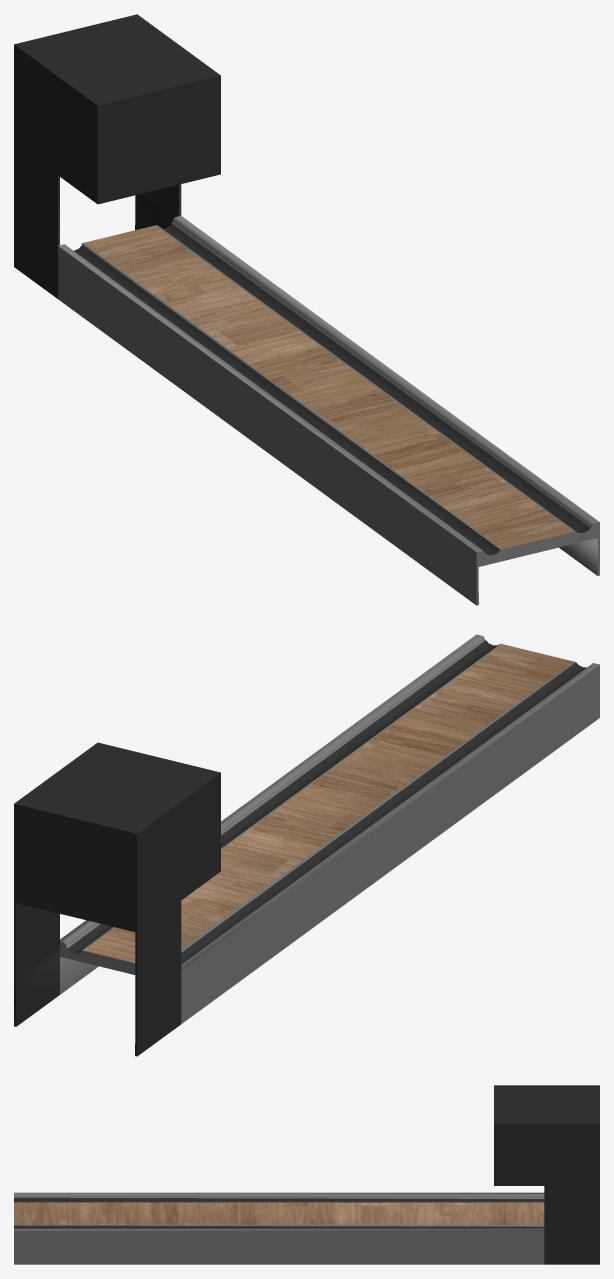
Rendered from BowlingAlley.fbx.
The picture shows the model from 3 angles, top to bottom: view 1: azimuth 30°, elevation 25°; view 2: azimuth 150°, elevation 25°; view 3: azimuth 270°, elevation 25°; orthographic projection. The views are drawn at different scales.
Parts seen in each view (by area): view 1: Plane; view 2: Plane; view 3: Plane.
Boxes of the visible parts, bbox=[...] form: Plane: bbox=[14, 14, 599, 605]; Plane: bbox=[14, 634, 599, 1056]; Plane: bbox=[14, 1085, 599, 1264].
Size of the model in its own units: 275 by 474 by 1785.
